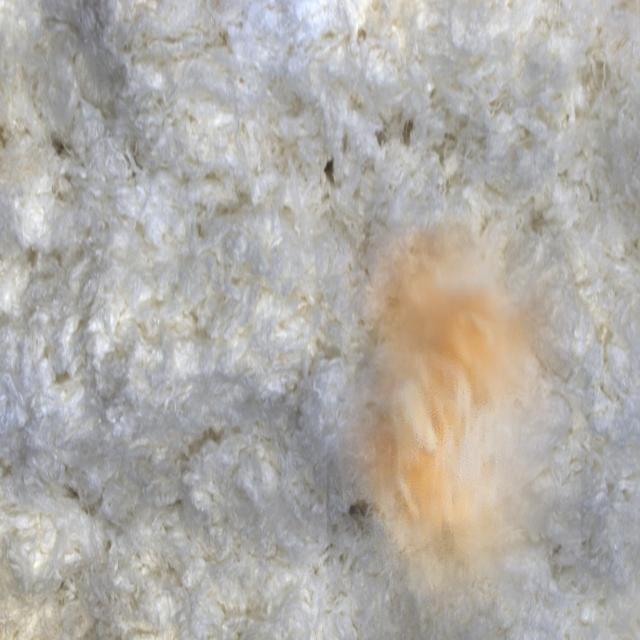dust: (327, 214, 581, 640)
